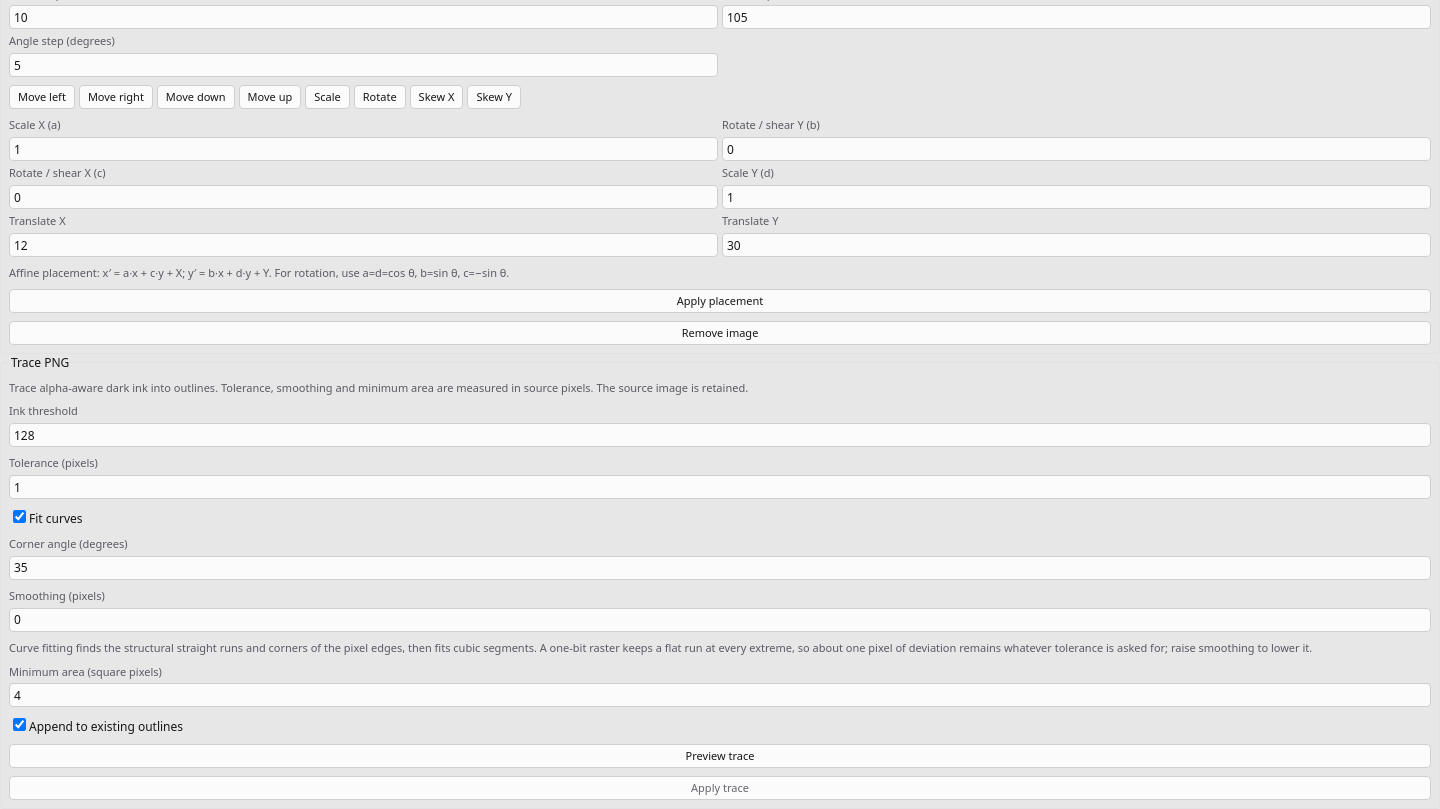
Scenario: invalidates review after a rejected trace apply without removing the source
(page scrolled)
Click the button "Preview trace" at (720, 756), box [9,744,1431,768]
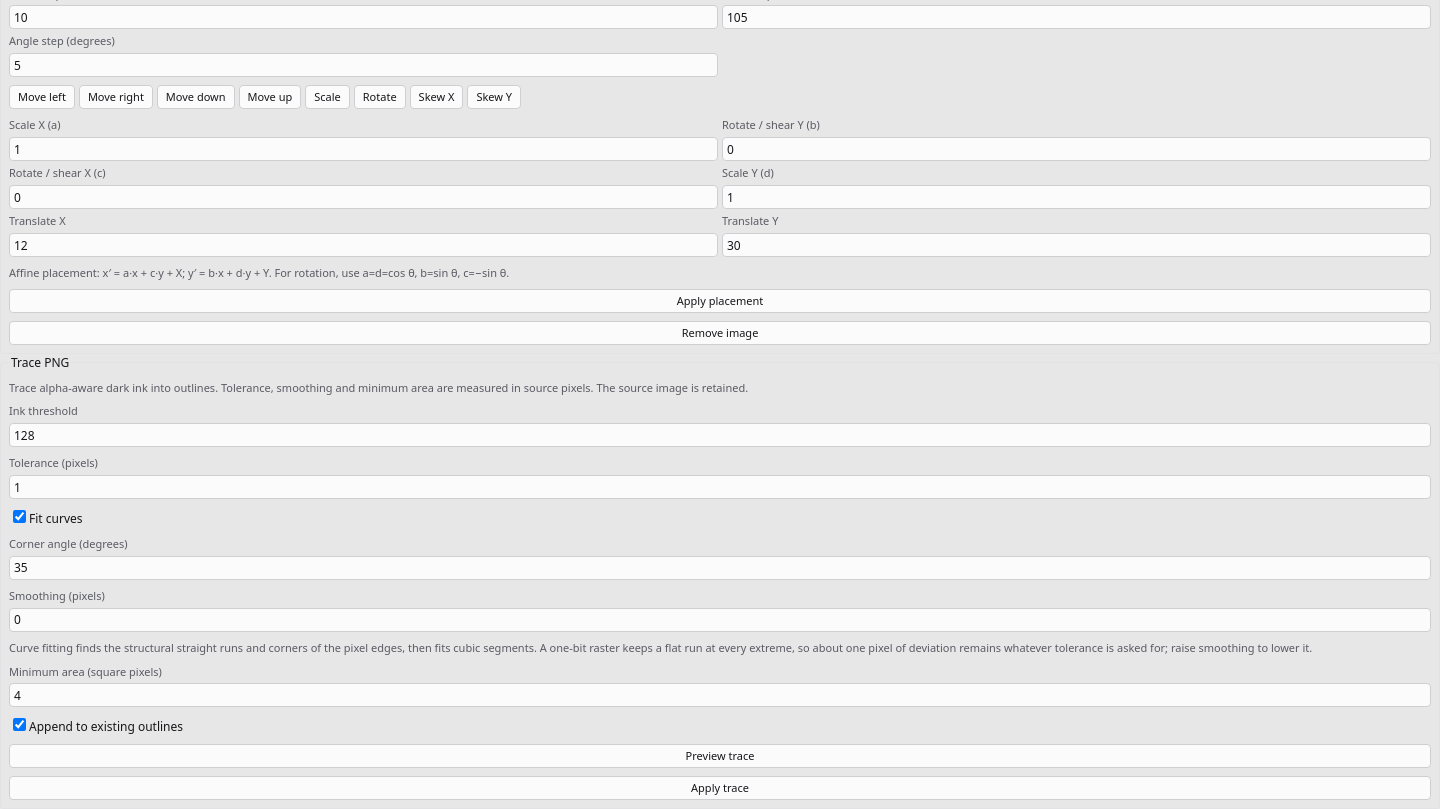
Click the button "Apply trace" at (720, 788), box [9,776,1431,800]
(page scrolled)
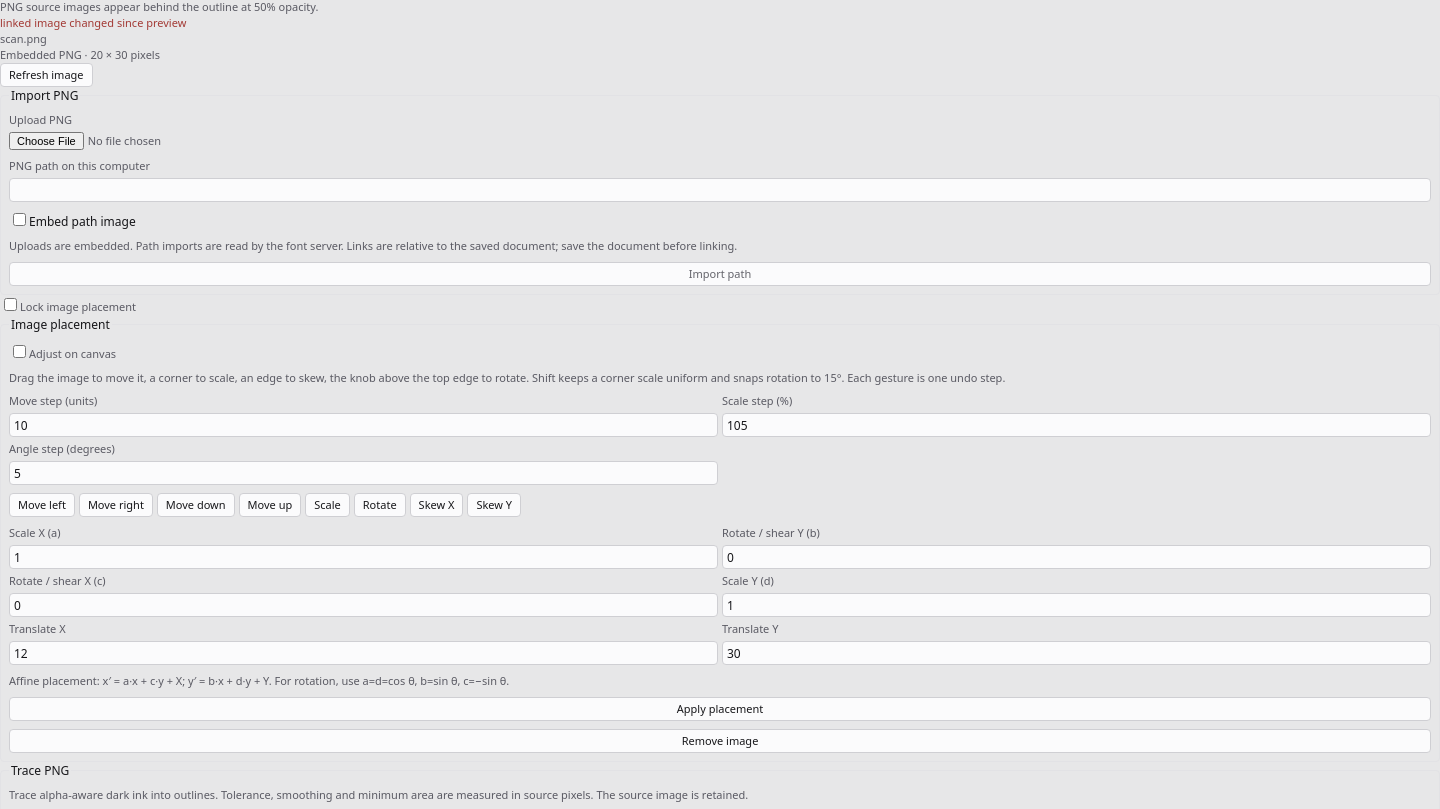
Check: the text "scan.png" is shown, box [0,31,47,46]
Check: the text "linked image changed since preview" is shown, box [0,15,186,30]
